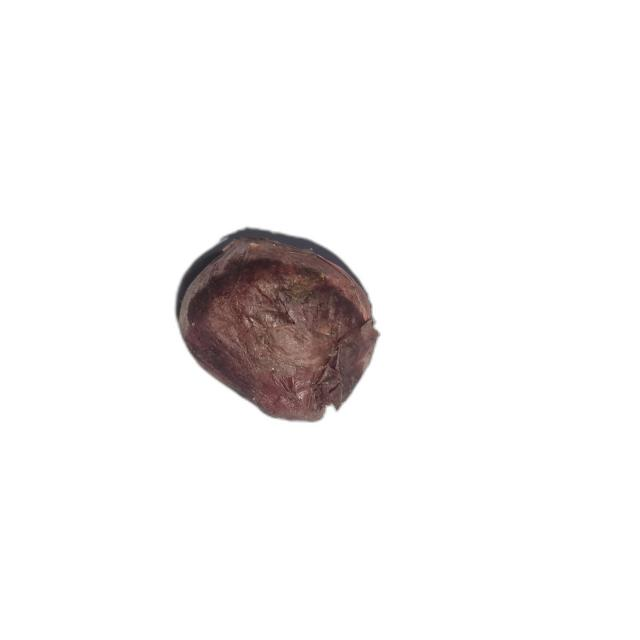onion: (176, 236, 380, 424)
